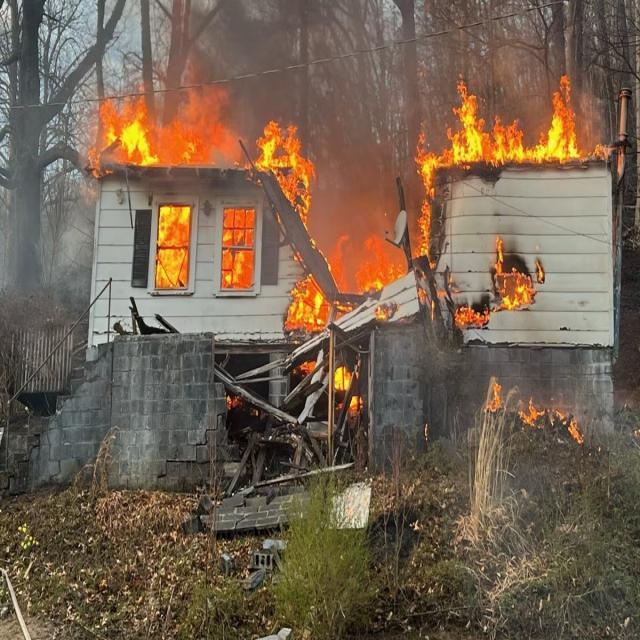Fire: (116, 94, 342, 288), (410, 65, 622, 172)
Smoke: (206, 0, 623, 131), (10, 147, 94, 300), (316, 108, 401, 231)
